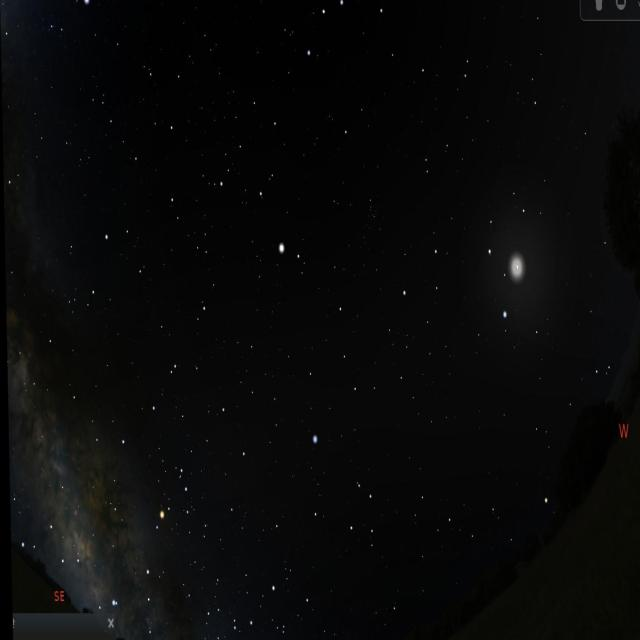bootes: (225, 83, 298, 262)
leo: (396, 168, 534, 348)
lyra: (46, 0, 89, 46)
moon: (487, 216, 542, 303)
scorpius: (107, 461, 196, 640)
